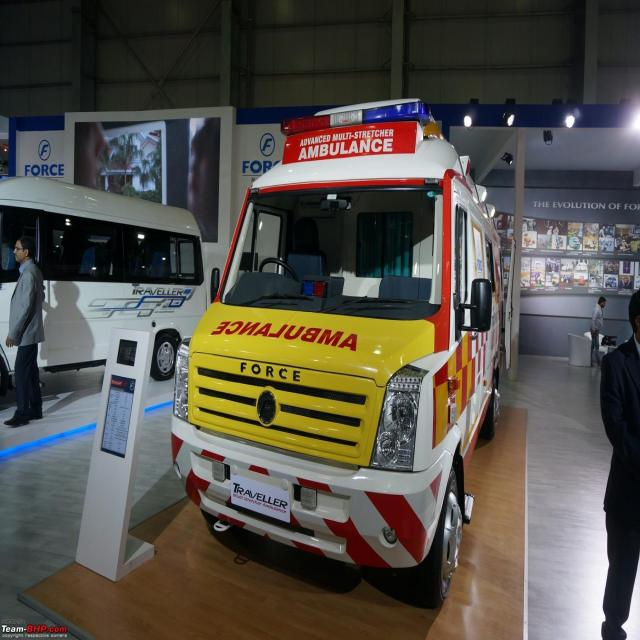ambulance: (176, 106, 488, 588)
